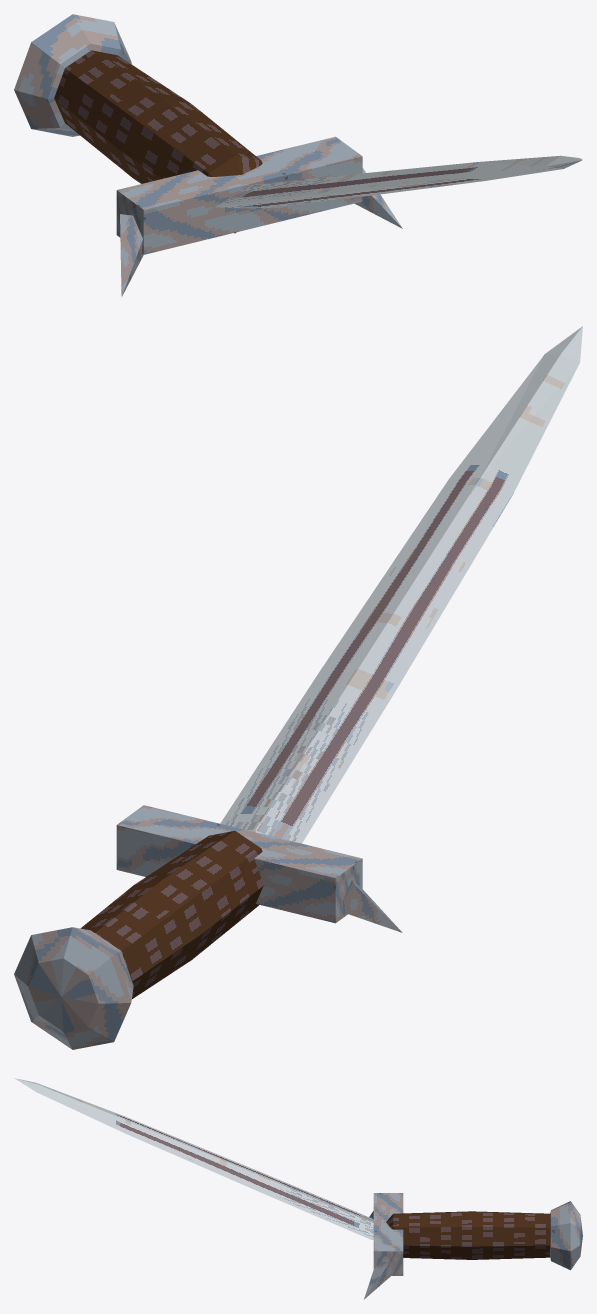
File: blade.glb
3 renders of one model, top to bottom at view 1: azimuth 30°, elevation 25°; view 2: azimuth 150°, elevation 25°; view 3: azimuth 270°, elevation 25°, orthographic. The views are drawn at different scales.
Parts seen in each view (by area): view 1: sword; view 2: sword; view 3: sword.
Part boxes in pixels (x1,y1,x2,y2): sword: (14,14,582,296); sword: (14,326,582,1049); sword: (14,1078,582,1299).
Size of the model in its own units: 0.1296 by 0.1541 by 0.4158.
Materials: 1 (1 with a texture image).
